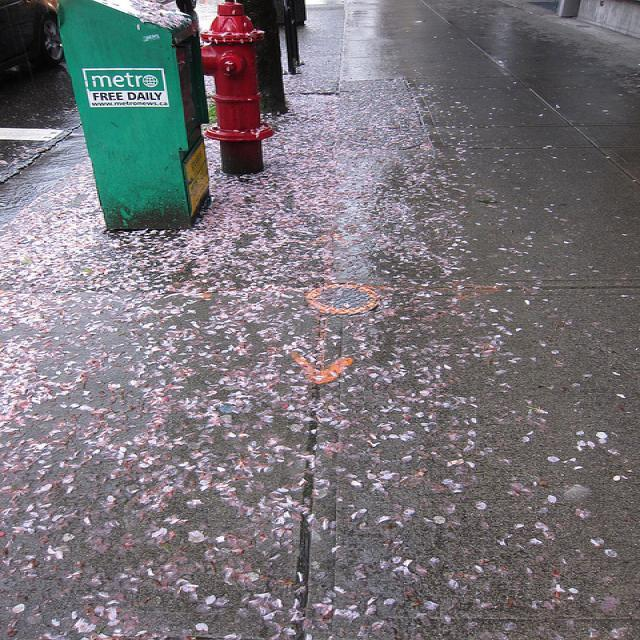fire_hydrant: (198, 1, 274, 176)
